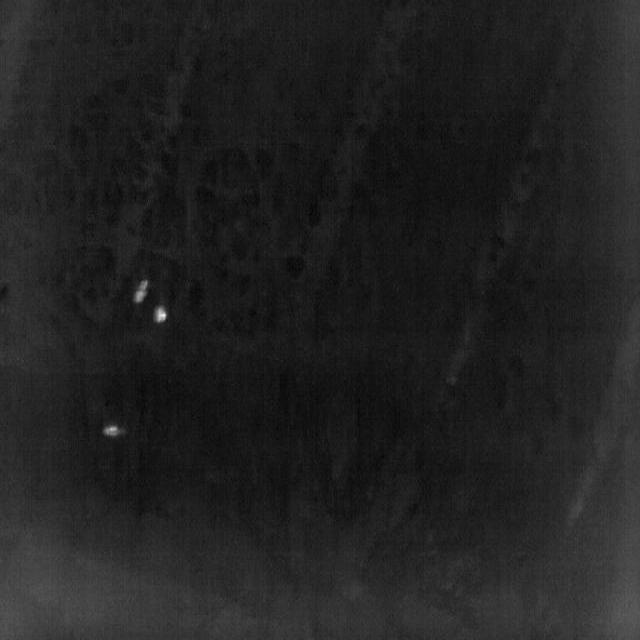deer: (132, 280, 148, 303), (154, 305, 168, 323), (104, 426, 123, 438)
